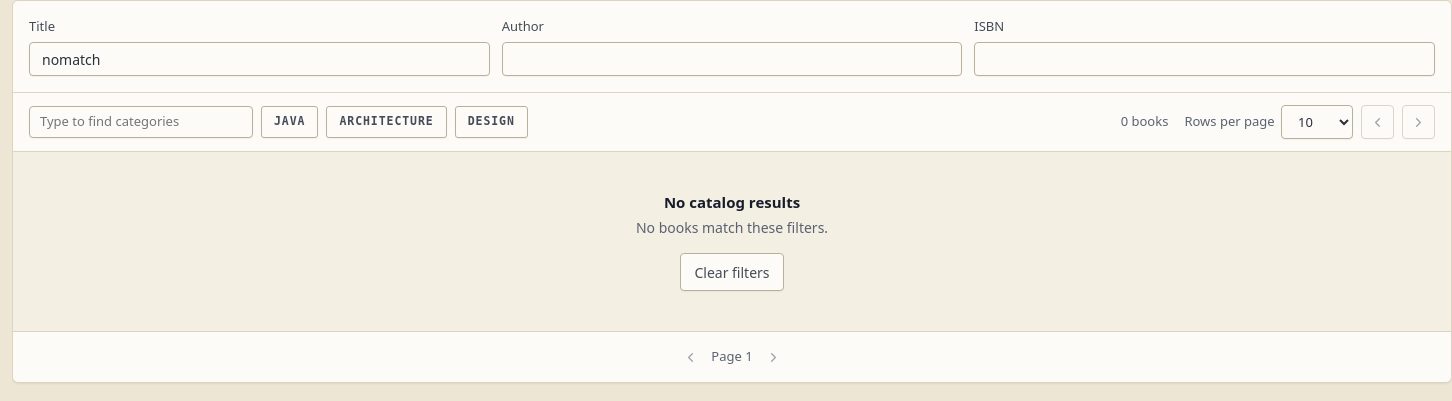
Test: CatalogPanel › offers a clear-filters action in the empty state when filters are active
This screenshot has width=1452, height=401.
Expected: the text "No catalog results" is shown, [664,192,800,212]
Expected: the text "No books match these filters." is shown, [636,217,828,239]
Click the button "Clear filters".
click(732, 272)  # box [680,253,784,291]
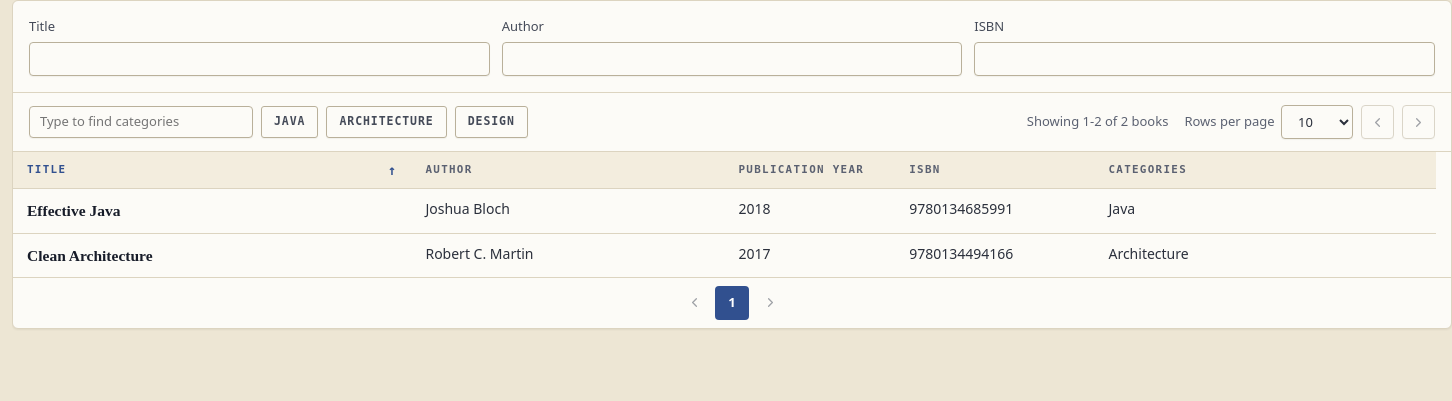
Expected: the column heading "Effective Java" is shown, [13,189,411,233]
